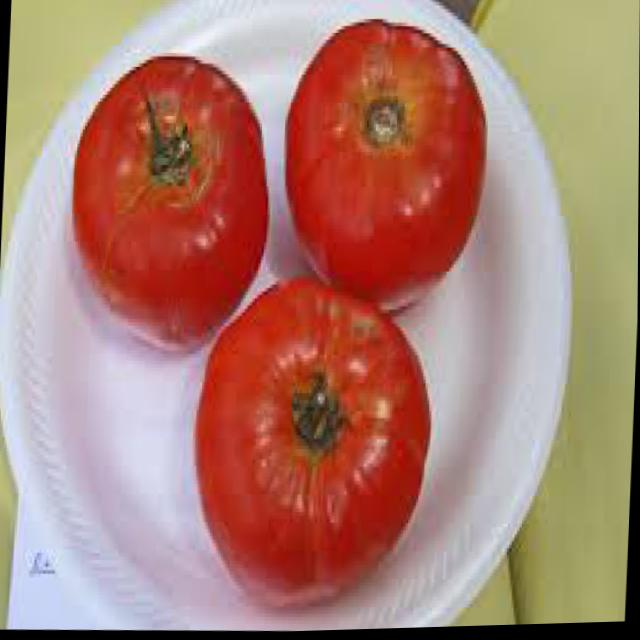tomato: (191, 261, 437, 618), (66, 52, 276, 357), (279, 19, 492, 299)
